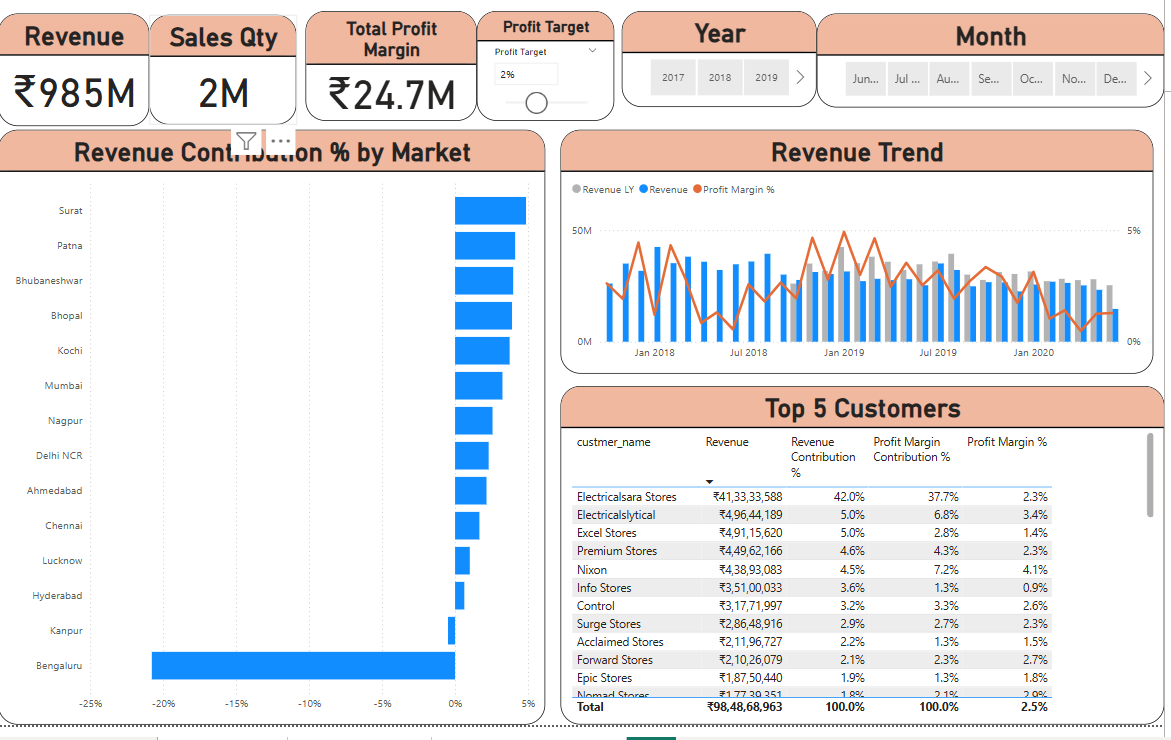

The dashboard page shown, as its layout file describes it:
{"tool":"powerbi","page":{"name":"Profit Analysis","canvas":[1350,850],"ordinal":1},"visuals":[{"type":"barChart","title":"Profit % by market","fields":{"Y":["BaseMeasures (2).Profit Margin %"],"Category":["sales markets.markets_name"]},"box":[428.4,167.9,230.1,671.5],"z":2000},{"type":"barChart","title":"Profit Contribution % by Market","fields":{"Y":["BaseMeasures (2).Profit Margin Contribution %"],"Category":["sales markets.markets_name"]},"box":[220,167.9,208.4,671.5],"z":3000},{"type":"tableEx","title":"Top 5 Customers","fields":{"Values":["sales customers.custmer_name","BaseMeasures (2).Revenue","BaseMeasures (2).Revenue Contribution %","BaseMeasures (2).Profit Margin Contribution %","BaseMeasures (2).Profit Margin %"]},"box":[674.4,473.3,675.9,376.3],"z":6000},{"type":"lineChart","title":"Revenue Trend","fields":{"Y":["BaseMeasures (2).Revenue"],"Category":["sales date.cy_date"]},"box":[674.4,156.3,675.9,306.8],"z":7000},{"type":"barChart","title":"Revenue Contribution % by Market","fields":{"Y":["BaseMeasures (2).Revenue Contribution %"],"Category":["sales markets.markets_name"]},"box":[0,167.9,220,671.5],"z":9000},{"type":"card","title":"Revenue","fields":{"Values":["BaseMeasures (2).Revenue"]},"box":[0,26.1,207,130.3],"z":9001},{"type":"card","title":"Sales Qty","fields":{"Values":["BaseMeasures (2).Sales Qty"]},"box":[207,26.1,209.9,127.4],"z":9002},{"type":"card","title":"Total Profit Margin","fields":{"Values":["BaseMeasures (2).Total Profit Margin"]},"box":[416.8,26.1,209.9,127.4],"z":9003},{"type":"slicer","title":"Year","fields":{"Values":["sales date.year"]},"box":[626.7,26.1,295.2,118.7],"z":9004},{"type":"slicer","title":"Month","fields":{"Values":["sales date.cy_date"]},"box":[921.9,26.1,428.4,118.7],"z":9005}]}

Visuals, with their boxes in screenshot pixels (x1, y1, x2, y2), scaled from the page's 1350x850 canvas onto the 1171x740 screenshot:
"Profit % by market" barChart: 372, 146, 571, 731
"Profit Contribution % by Market" barChart: 191, 146, 372, 731
"Top 5 Customers" tableEx: 585, 412, 1170, 739
"Revenue Trend" lineChart: 585, 136, 1170, 403
"Revenue Contribution % by Market" barChart: 0, 146, 191, 731
"Revenue" card: 0, 23, 180, 136
"Sales Qty" card: 180, 23, 362, 134
"Total Profit Margin" card: 362, 23, 544, 134
"Year" slicer: 544, 23, 800, 126
"Month" slicer: 800, 23, 1170, 126
